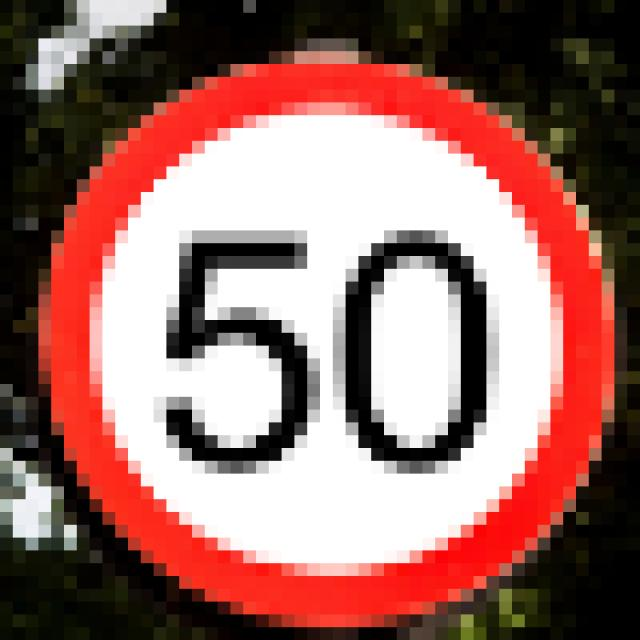Limite-50: (30, 52, 622, 635)
